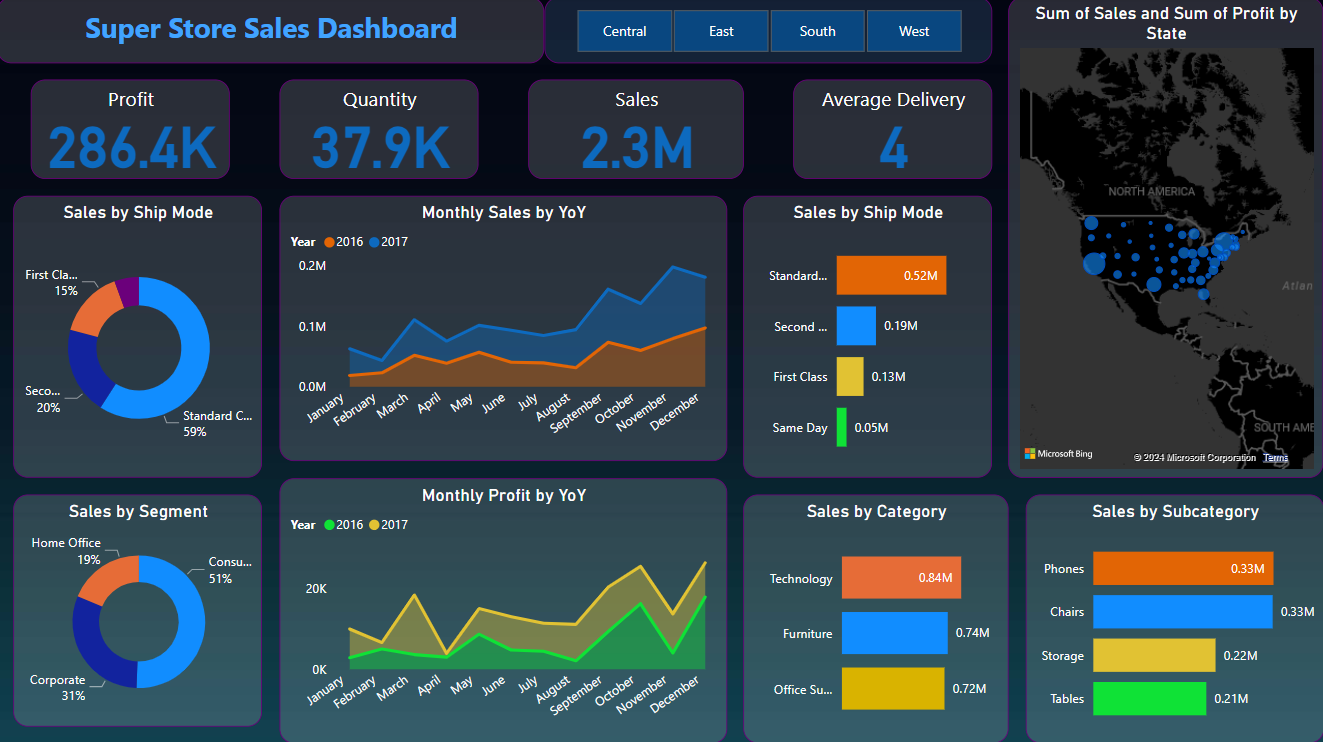

Layout of this report page (visuals, bound fields, positions):
{"tool":"powerbi","page":{"name":"Dashboard","canvas":[1280,720],"ordinal":0},"visuals":[{"type":"clusteredBarChart","title":"Sales by Category","fields":{"Category":["Superstore sales (1).Category"],"Y":["Sum(Superstore sales (1).Sales)"]},"box":[720,480,256,240],"z":0},{"type":"clusteredBarChart","title":"Sales by Subcategory","fields":{"Category":["Superstore sales (1).Sub-Category"],"Y":["Sum(Superstore sales (1).Sales)"]},"box":[992,480,288,240],"z":1000},{"type":"clusteredBarChart","title":"Sales by Ship Mode","fields":{"Category":["Superstore sales (1).Ship Mode"],"Y":["Sum(Superstore sales (1).Sales)"]},"box":[720,192,240,272],"z":2000},{"type":"stackedAreaChart","title":"Monthly Sales by YoY","fields":{"Y":["Sum(Superstore sales (1).Sales)"],"Category":["Superstore sales (1).Order Date.Variation.Date Hierarchy.Month"],"Series":["Superstore sales (1).Order Date.Variation.Date Hierarchy.Year"]},"box":[272,192,432,256],"z":3000},{"type":"stackedAreaChart","title":"Monthly Profit by YoY","fields":{"Y":["Sum(Superstore sales (1).Profit)"],"Category":["Superstore sales (1).Order Date.Variation.Date Hierarchy.Month"],"Series":["Superstore sales (1).Order Date.Variation.Date Hierarchy.Year"]},"box":[272,464,432,256],"z":4000},{"type":"map","fields":{"Category":["Superstore sales (1).State"],"Size":["Sum(Superstore sales (1).Sales)"]},"box":[976,0,304,464],"z":5000},{"type":"donutChart","title":"Sales by Segment","fields":{"Category":["Superstore sales (1).Segment"],"Y":["Sum(Superstore sales (1).Sales)"]},"box":[16,480,240,224],"z":6000},{"type":"donutChart","title":"Sales by Ship Mode","fields":{"Category":["Superstore sales (1).Ship Mode"],"Y":["Sum(Superstore sales (1).Sales)"]},"box":[16,192,240,272],"z":7000},{"type":"slicer","fields":{"Values":["Superstore sales (1).Region"]},"box":[528,0,432,64],"z":8000},{"type":"textbox","box":[0,0,528,64],"z":9000},{"type":"card","title":"Sales","fields":{"Values":["Sum(Superstore sales (1).Sales)"]},"box":[512,80,208,96],"z":10000},{"type":"card","title":"Quantity","fields":{"Values":["Sum(Superstore sales (1).Quantity)"]},"box":[272,80,192,96],"z":11000},{"type":"card","title":"Average Delivery","fields":{"Values":["Avg(Superstore sales (1).Average Delivery)"]},"box":[768,80,192,96],"z":12000},{"type":"card","title":"Profit","fields":{"Values":["Sum(Superstore sales (1).Profit)"]},"box":[32,80,192,96],"z":13000}]}

Visuals, with their boxes in screenshot pixels (x1, y1, x2, y2), scaled from the page's 1280x720 canvas onto the 1323x742 screenshot:
"Sales by Category" clusteredBarChart: <region>744, 495, 1009, 741</region>
"Sales by Subcategory" clusteredBarChart: <region>1025, 495, 1322, 741</region>
"Sales by Ship Mode" clusteredBarChart: <region>744, 198, 992, 478</region>
"Monthly Sales by YoY" stackedAreaChart: <region>281, 198, 728, 462</region>
"Monthly Profit by YoY" stackedAreaChart: <region>281, 478, 728, 741</region>
map - Superstore sales (1).State x Sum(Superstore sales (1).Sales): <region>1009, 0, 1322, 478</region>
"Sales by Segment" donutChart: <region>17, 495, 265, 726</region>
"Sales by Ship Mode" donutChart: <region>17, 198, 265, 478</region>
slicer - Superstore sales (1).Region: <region>546, 0, 992, 66</region>
textbox: <region>0, 0, 546, 66</region>
"Sales" card: <region>529, 82, 744, 181</region>
"Quantity" card: <region>281, 82, 480, 181</region>
"Average Delivery" card: <region>794, 82, 992, 181</region>
"Profit" card: <region>33, 82, 232, 181</region>
